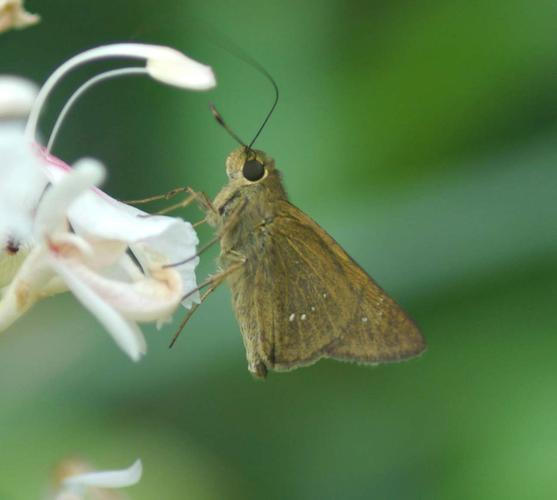Hesperiidae: (119, 64, 425, 381)
